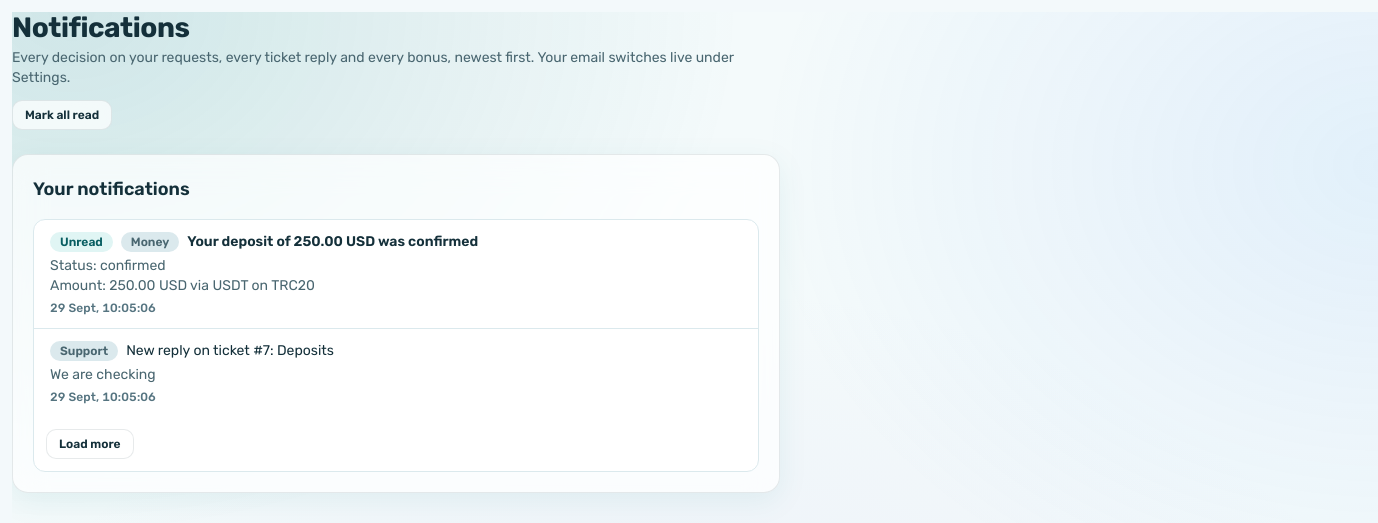
Mark all read clears every unread badge; the button stays enabled (read-all is idempotent)
Expected: the text "Your deposit of 250.00 USD was confirmed" is shown, [187,232,478,252]
Click the button "Mark all read" at x=62, y=115, box [12,100,112,130]
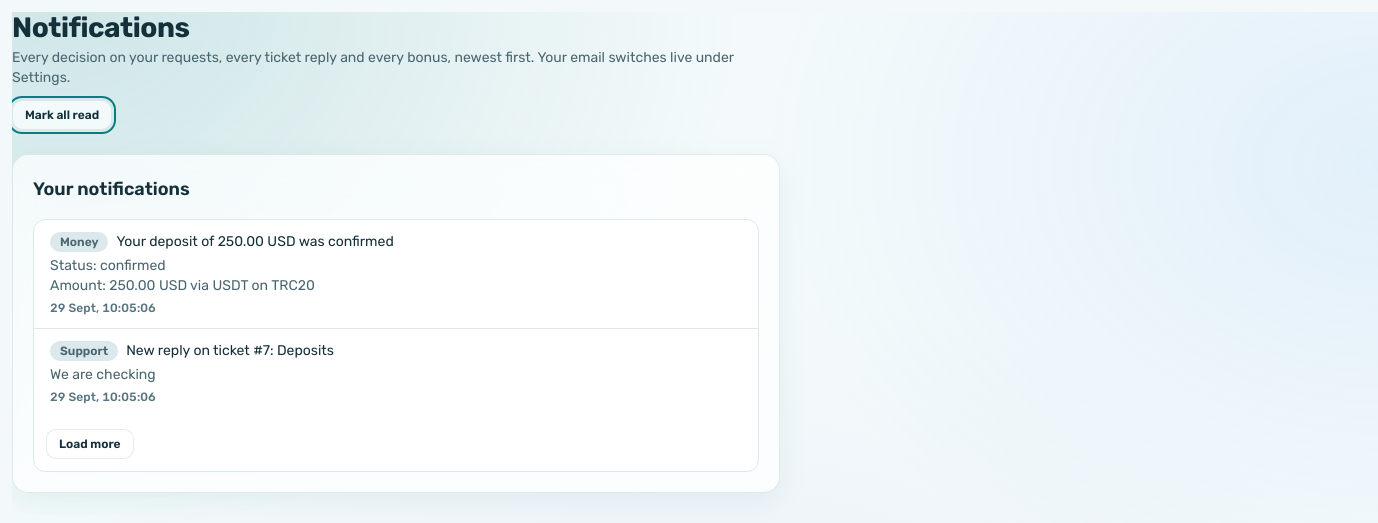
Expected: the text "Unread" is gone
